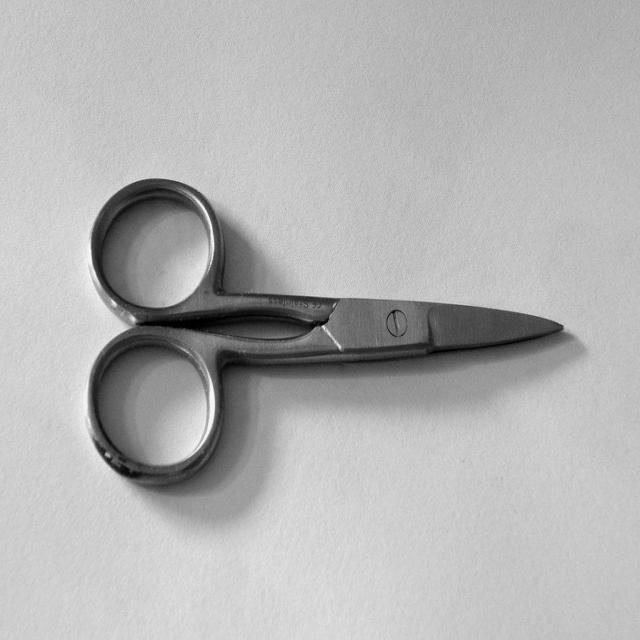scissor: (83, 170, 566, 488)
